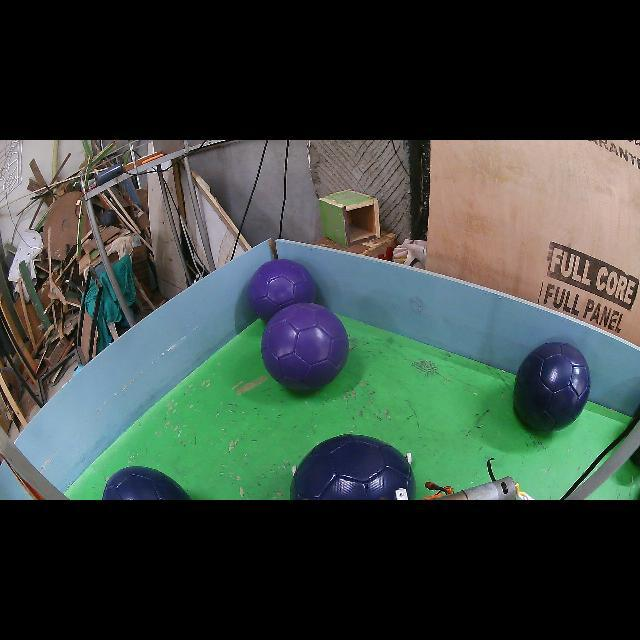B: (290, 434, 415, 500), (514, 342, 590, 431), (102, 466, 190, 500)
P: (261, 302, 349, 390), (248, 259, 315, 321)
